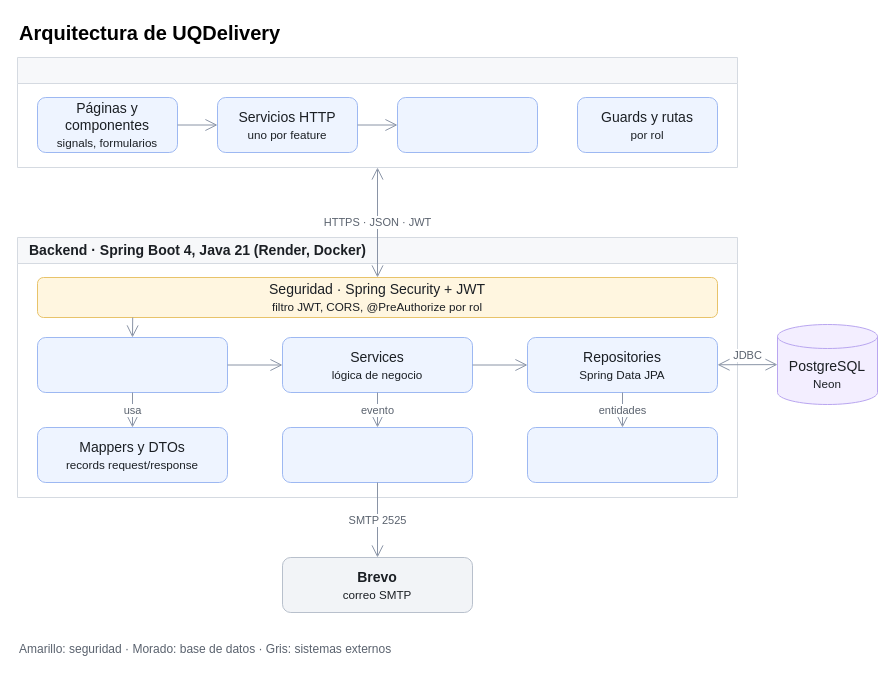
The diagram is 895 pixels wide and 678 high, and some of its shapes have lost their labels. Each missing label, with the box of its shape:
Controllers REST + Swagger: (36, 336, 228, 392)
CorreoService envío en segundo plano: (282, 426, 472, 482)
Dominio entidades JPA y enums: (526, 426, 718, 482)
Frontend · Angular 22 + Angular Material (Vercel): (16, 56, 738, 168)
Interceptores token y errores: (396, 96, 538, 152)
